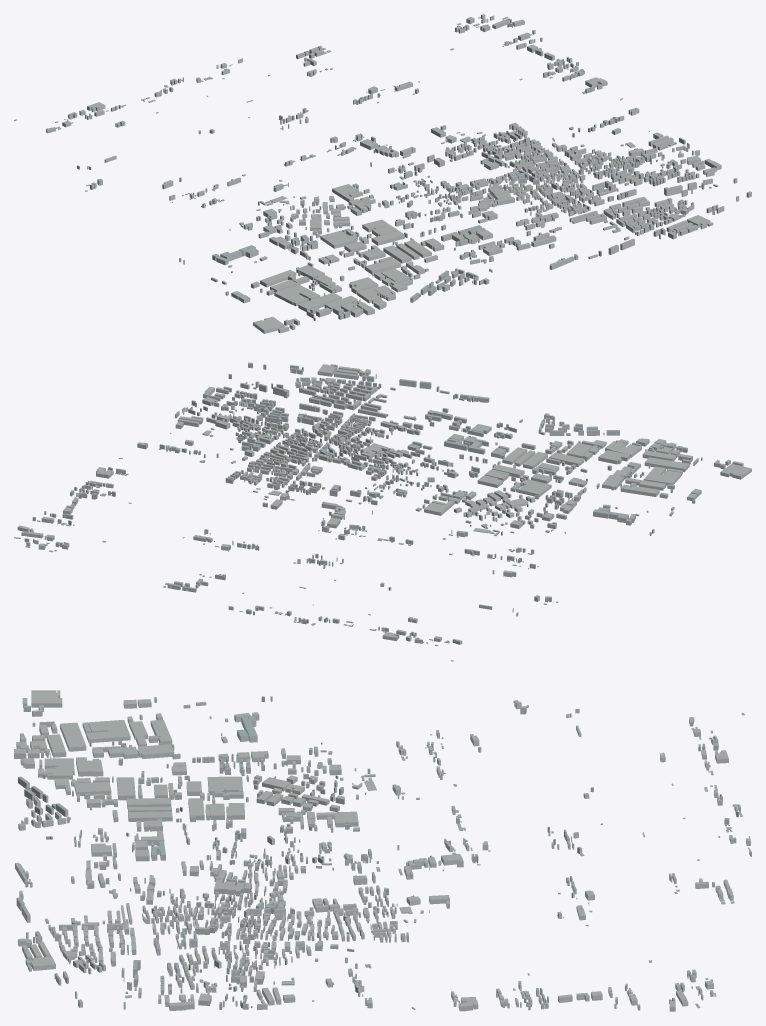
Rendered from far.glb.
The picture shows the model from 3 angles, top to bottom: view 1: azimuth 30°, elevation 25°; view 2: azimuth 150°, elevation 25°; view 3: azimuth 270°, elevation 25°; orthographic projection. The views are drawn at different scales.
Size of the model in its own units: 2153 by 26.3 by 2119.
